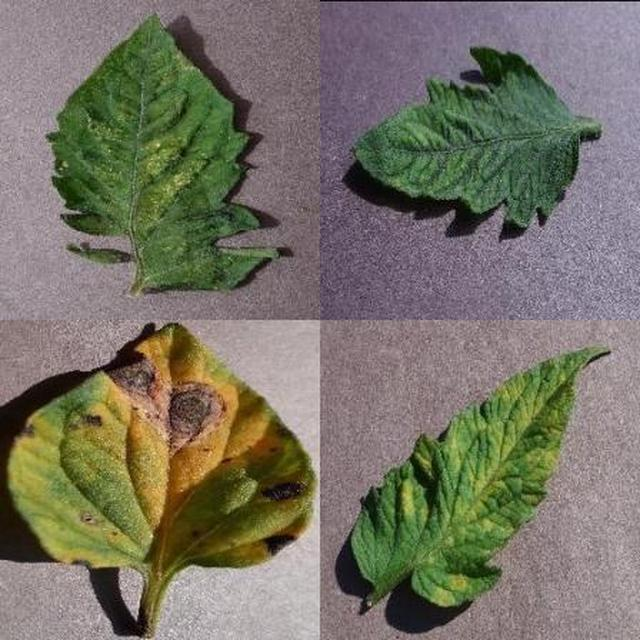Spider Mites Leaf: (229, 194, 640, 640)
